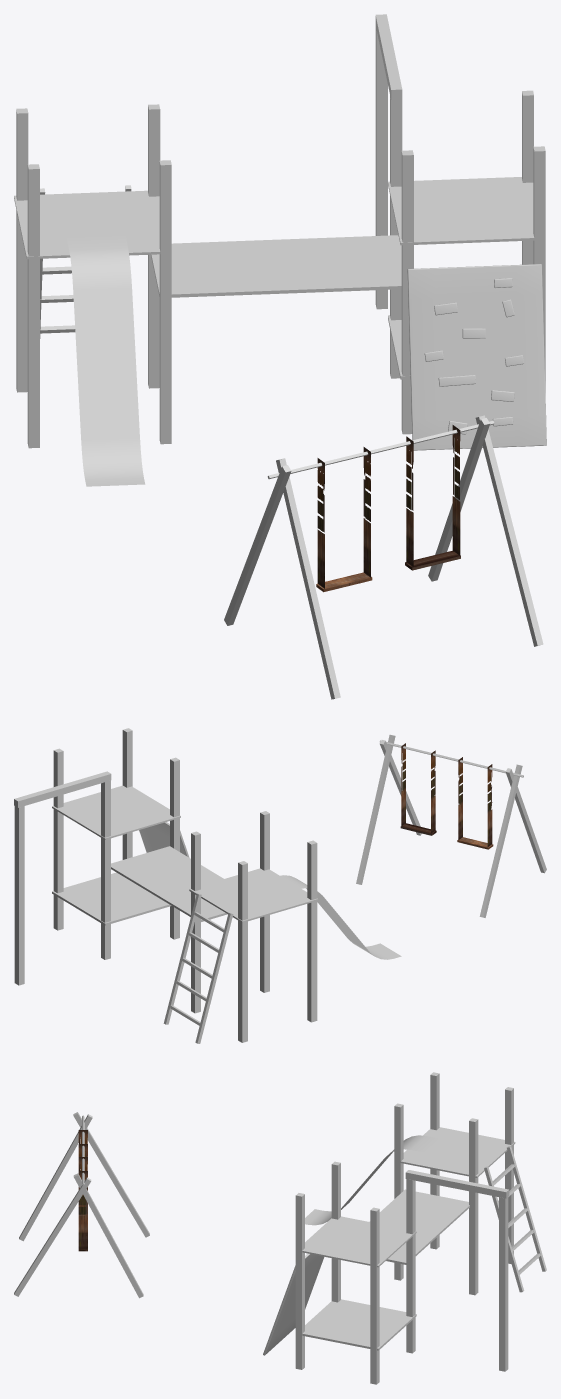
The model's file is Playground_dummy.fbx.
The picture shows the model from 3 angles, top to bottom: view 1: azimuth 30°, elevation 25°; view 2: azimuth 150°, elevation 25°; view 3: azimuth 270°, elevation 25°; orthographic projection. The views are drawn at different scales.
Visible parts, largest first — view 1: Cube_2_2, Slide, Cube_3, Cube_2, Cube_2_6, Cube_5_4, Cube_4_5, Cube_5_5, Cube_3_4, Cube_6_2, Cube_3_6, plank_big (+12 smaller); view 2: Cube_3, Cube_2, Cube_2_6, Cube, Cube_6_2, Cube_4_5, Cube_5_5, Cube_1_2, Cube_4_2, Cube_3_6, Slide, Cube_5_4 (+15 smaller); view 3: Cube, Cube_2, Cube_3, Cube_2_6, Cube_2_4, Cube_1_2, Cube_6_2, Cube_2_2, Cube_3_6, Cube_4_2, Slide, Cube_5_4 (+11 smaller).
Part boxes in pixels (x1,y1,x2,y2): Cube_2_2: (407,264,546,450); Slide: (66,235,145,486); Cube_3: (151,235,401,297); Cube_2: (388,177,534,245); Cube_2_6: (14,190,160,259); Cube_5_4: (159,160,171,444); Cube_4_5: (27,164,39,448); Cube_5_5: (16,108,28,392); Cube_3_4: (401,150,413,434); Cube_6_2: (375,26,387,309); Cube_3_6: (148,104,160,388); plank_big: (276,458,340,699); Cube_3: (111,846,227,921); Cube_2: (52,785,180,839); Cube_2_6: (189,868,318,922); Cube: (52,872,171,925); Cube_6_2: (14,806,24,985); Cube_4_5: (307,840,317,1022); Cube_5_5: (238,861,247,1042); Cube_1_2: (53,748,63,930); Cube_4_2: (101,780,110,959); Cube_3_6: (191,831,200,1013); Slide: (262,875,401,959); Cube_5_4: (260,811,269,992); Cube: (302,1299,416,1350); Cube_2: (302,1216,416,1267); Cube_3: (369,1189,469,1264); Cube_2_6: (400,1127,515,1177); Cube_2_4: (295,1193,304,1369); Cube_1_2: (370,1207,379,1384); Cube_6_2: (499,1197,508,1371); Cube_2_2: (263,1253,324,1355); Cube_3_6: (469,1118,478,1295); Cube_4_2: (406,1179,415,1353); Slide: (305,1135,442,1225); Cube_5_4: (394,1103,403,1280).
Size of the model in its own units: 412 by 230 by 610.
